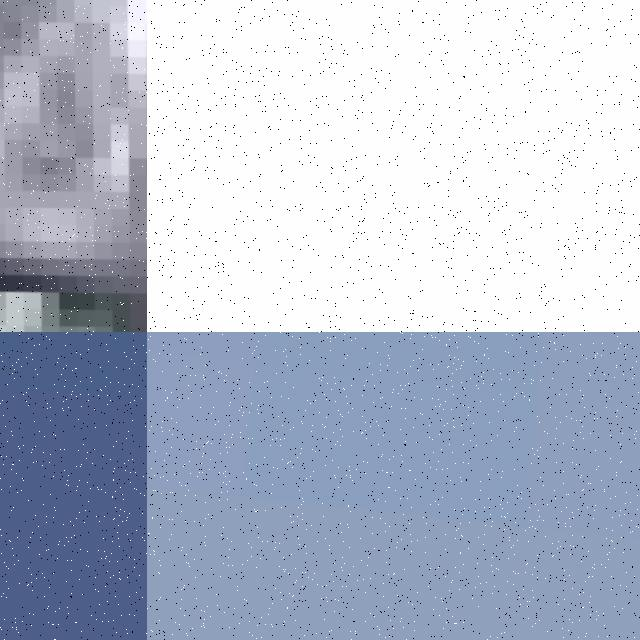drone: (0, 0, 147, 332)
